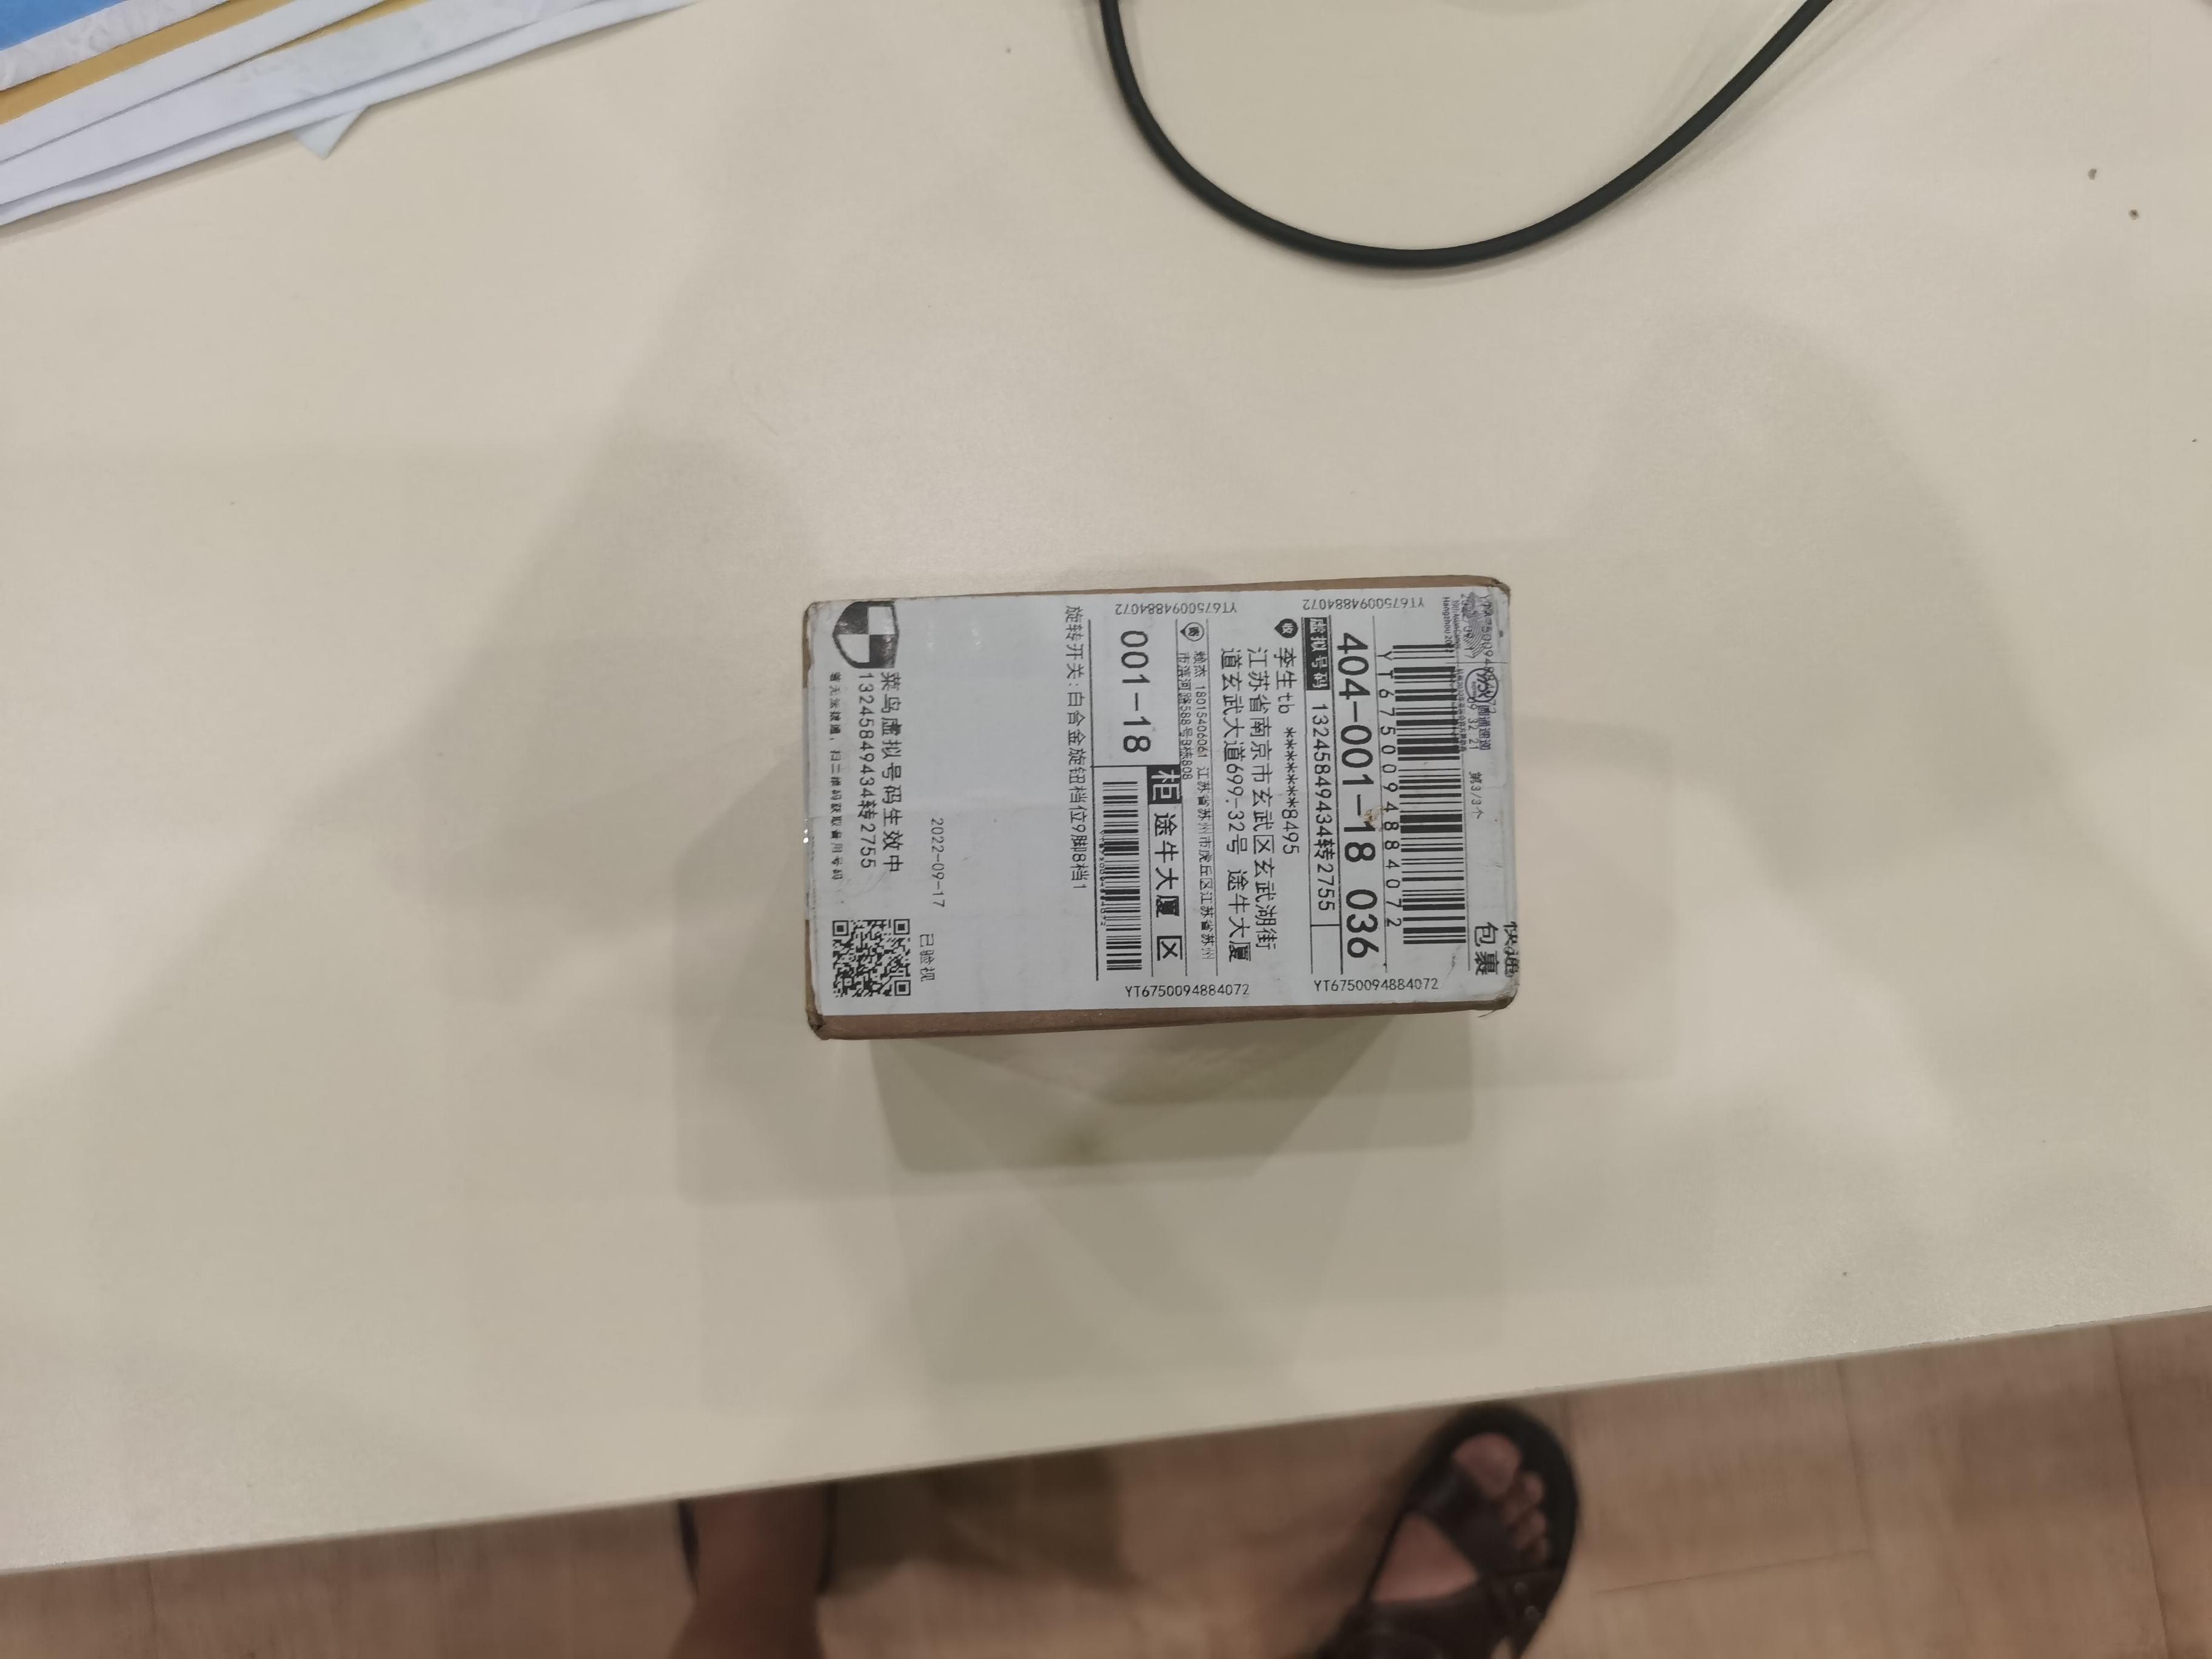box: (747, 558, 1569, 1068)
